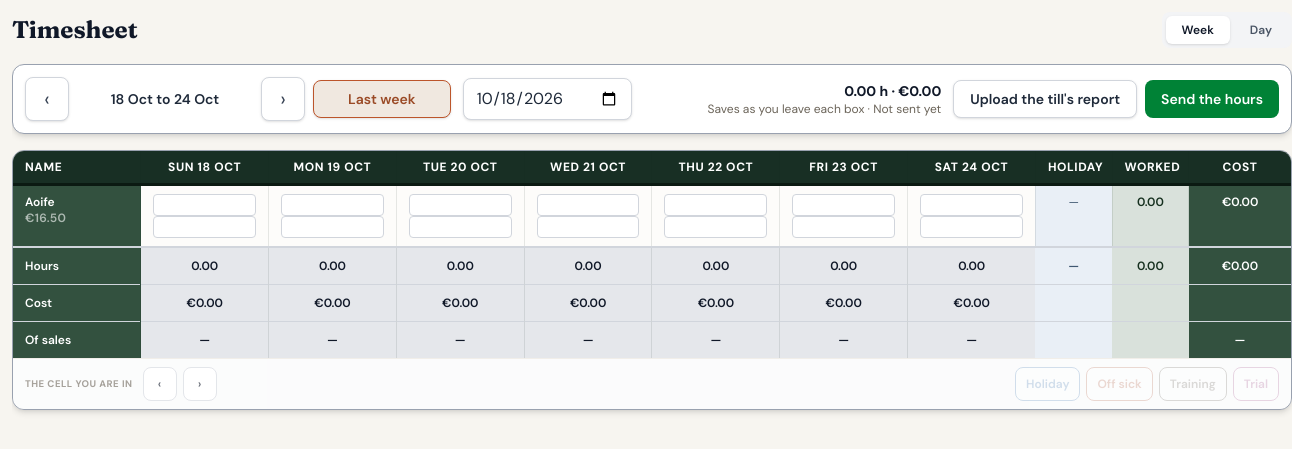
it: typing into a cell with nothing in it › puts the colons in as it goes
The image size is (1292, 449).
In the 1st field named "Clock in": [205, 205] box top-left (153, 194), bottom-right (256, 216), type "115804"
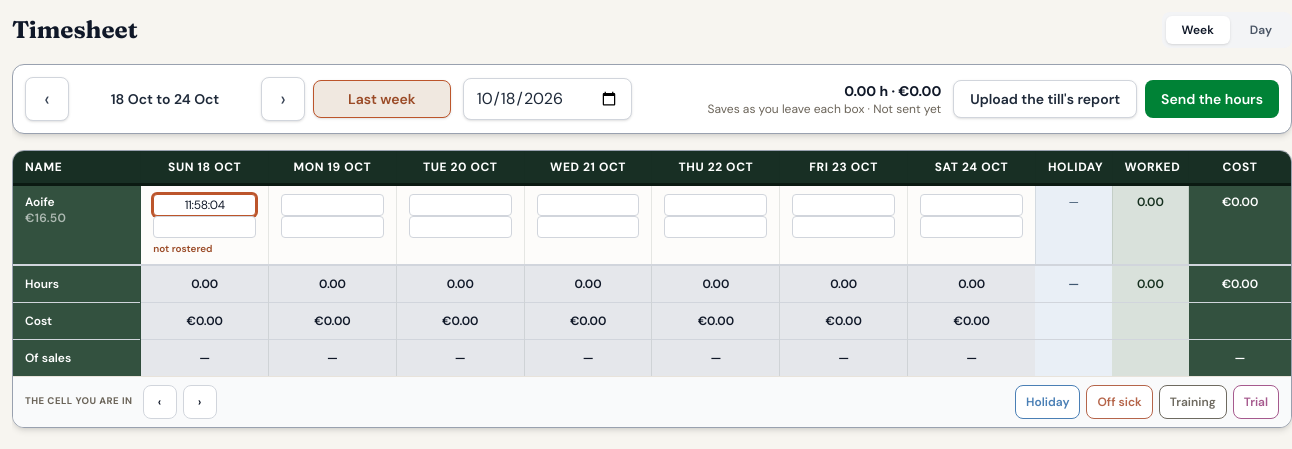
Expected: the 1st field named "Clock in" holds "11:58:04", top-left (153, 194), bottom-right (256, 216)
